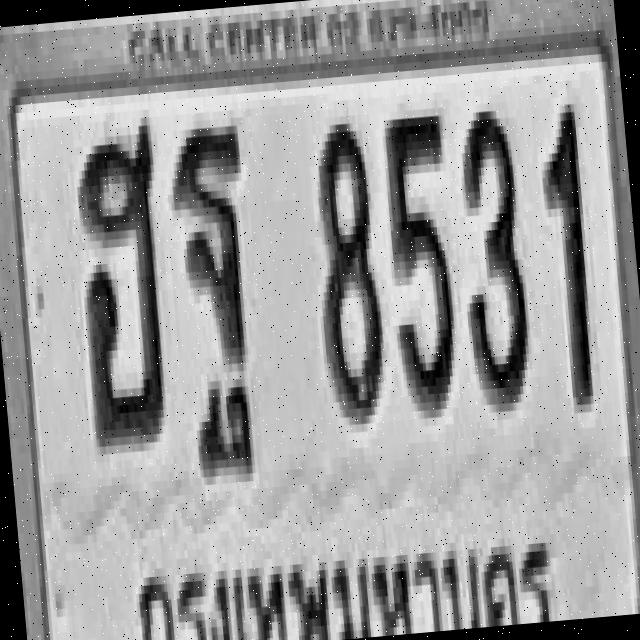1: (536, 100, 600, 410)
25ThorThan: (166, 117, 262, 430)
3: (450, 101, 534, 413)
5: (378, 108, 466, 420)
53HorNokHook: (68, 116, 178, 446)
8: (305, 114, 389, 426)
